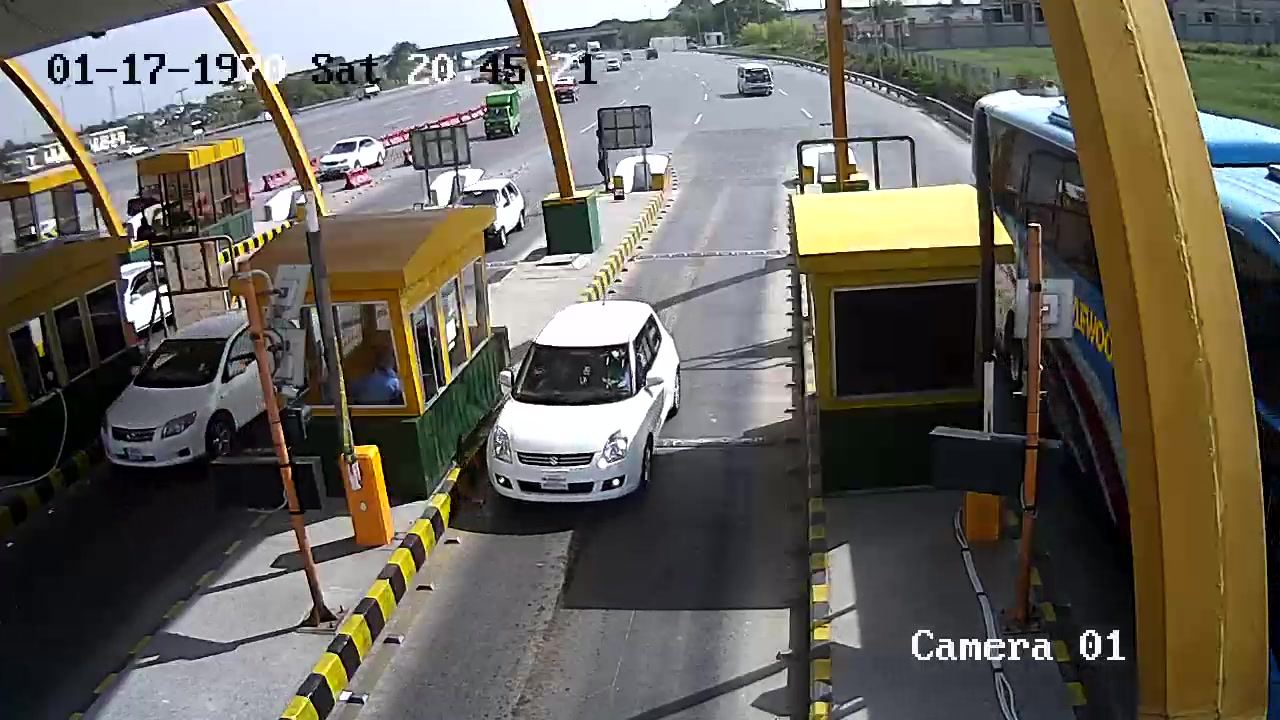F1: (478, 279, 703, 510)
